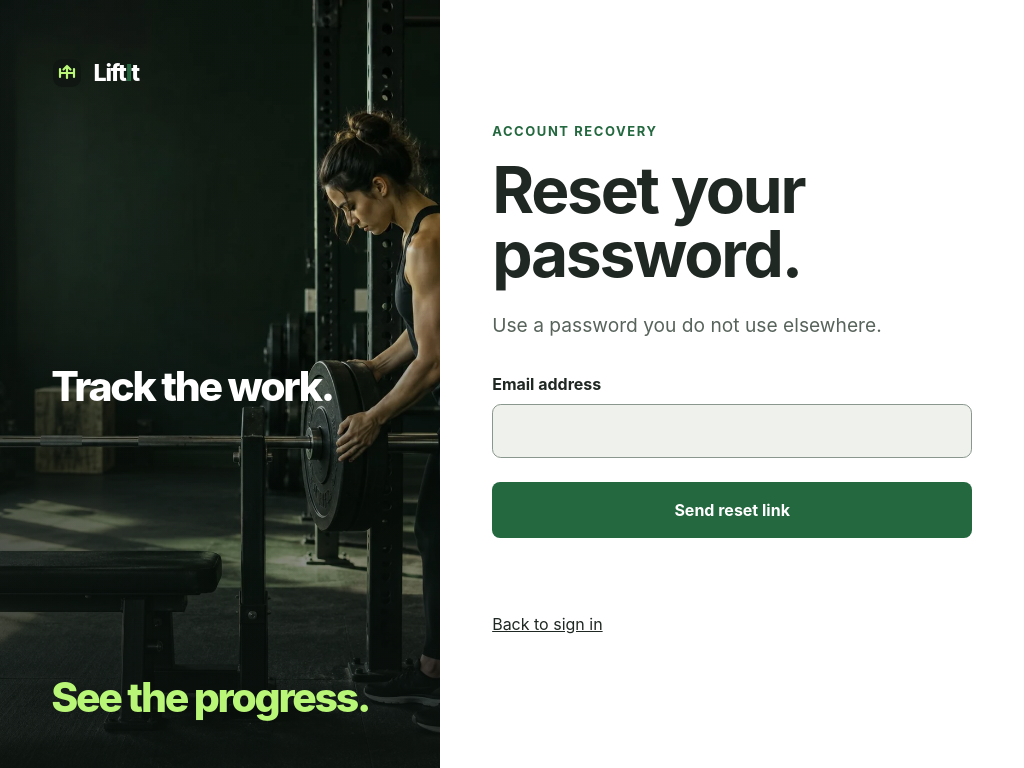
Test case: account foundation › uses neutral recovery responses for existing and unknown accounts
In the field labelled "Email address": point(732, 431) [492,404,972,458], type "unknown@example.com"
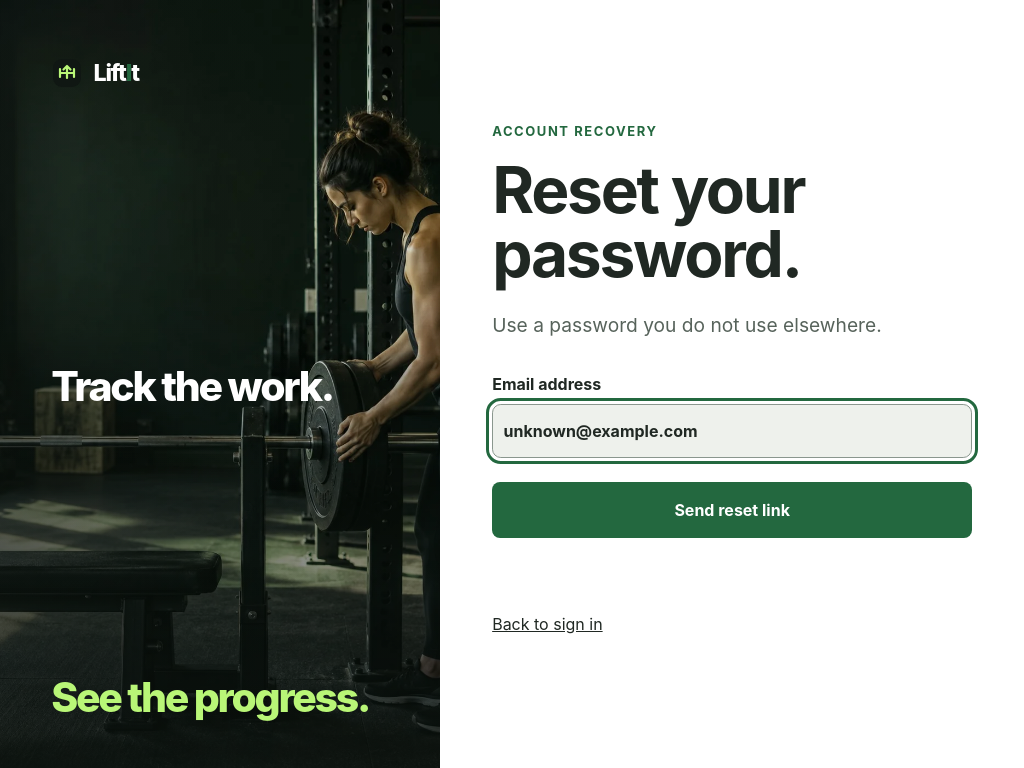
Click the button "Send reset link": point(732, 510) [492,482,972,538]
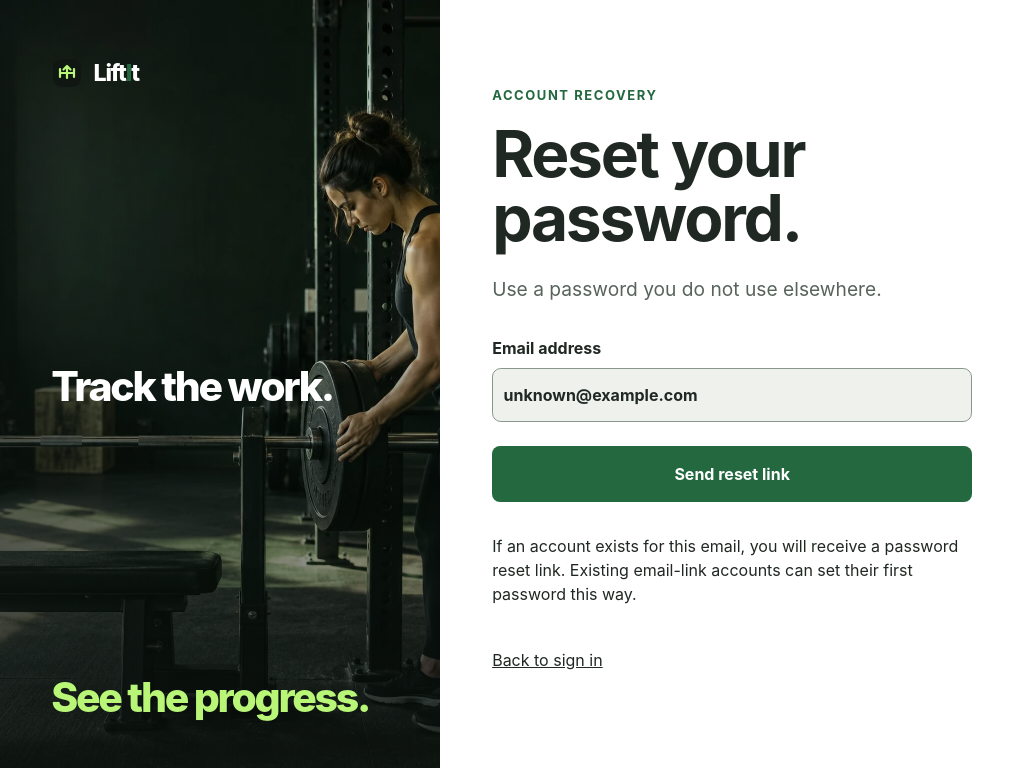
Expected: the message shows "If an account exists", [492,536,958,604]
